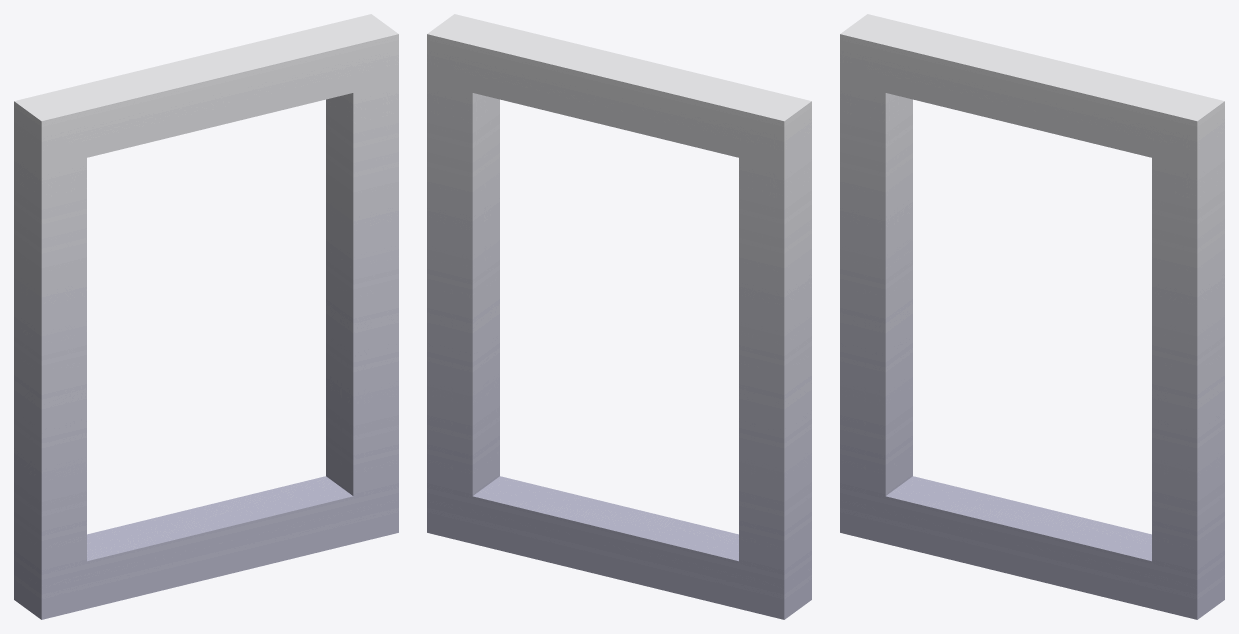
3 views of the same model, side by side, from view 1: azimuth 30°, elevation 25°; view 2: azimuth 150°, elevation 25°; view 3: azimuth 330°, elevation 25° (orthographic).
Visible parts, largest first — view 1: window-white-large; view 2: window-white-large; view 3: window-white-large.
Boxes of the visible parts, bbox=[...] form: window-white-large: bbox=[14, 14, 398, 619]; window-white-large: bbox=[427, 14, 811, 619]; window-white-large: bbox=[840, 14, 1224, 619].
Bounding box in the file's own units: 0.375 × 0.5 × 0.05.
1 material, 1 textured.
